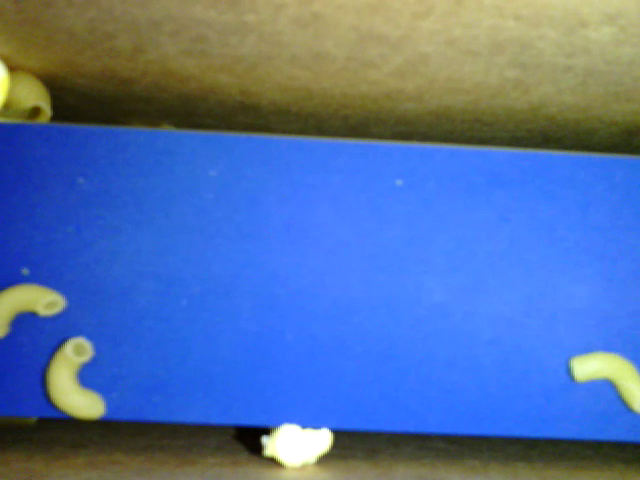elbow: (44, 334, 108, 423), (570, 350, 638, 412), (1, 281, 71, 341)
shell: (1, 68, 56, 129)
